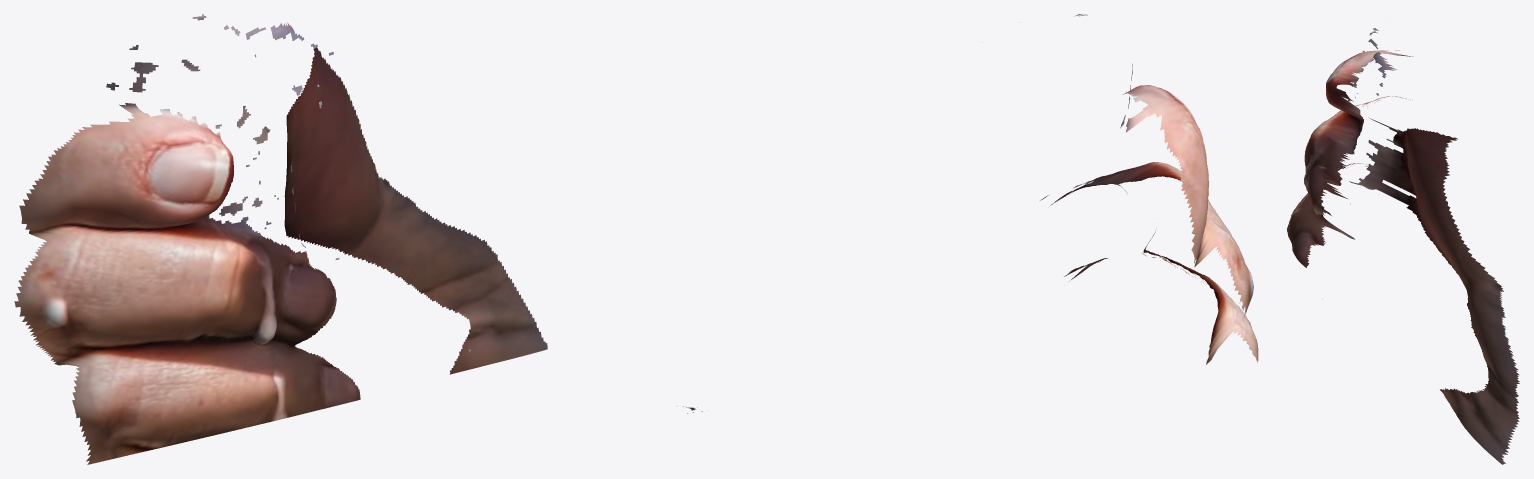
The picture shows the model from 3 angles, left to right: view 1: azimuth 30°, elevation 25°; view 2: azimuth 150°, elevation 25°; view 3: azimuth 270°, elevation 25°; orthographic projection. The views are drawn at different scales.
Parts seen in each view (by area): view 1: world; view 2: world; view 3: world.
Part boxes in pixels (x1,y1,x2,y2): world: [14, 14, 547, 464]; world: [683, 14, 1258, 413]; world: [1287, 28, 1519, 464].
Bounding box in the file's own units: 1.06 × 0.8374 × 0.5614.
Materials: 1 (1 with a texture image).
